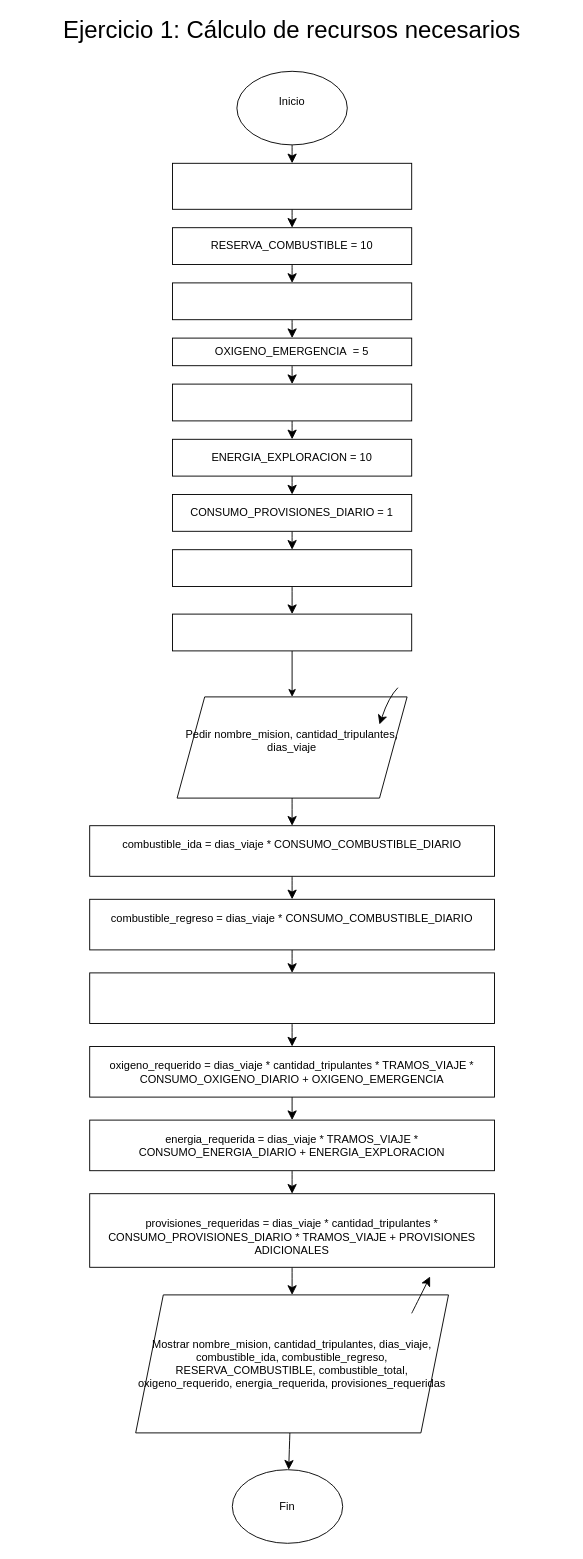
This 583x1559 diagram has some shape labels left out. Each missing label, with the box of its shape:
combustible_total = combustible_regreso + combustible_ida + RESERVA_COMBUSTIBLE: (89, 972, 494, 1024)
CONSUMO_COMBUSTIBLE_DIARIO = 8: (172, 162, 412, 209)
CONSUMO_ENERGIA_DIARIO = 5: (172, 383, 412, 421)
CONSUMO_OXIGENO_DIARIO = 2: (172, 282, 412, 320)
PROVISIONES_ADICIONALES = 3: (172, 549, 412, 586)
TRAMOS_VIAJE = 2: (172, 613, 412, 651)
